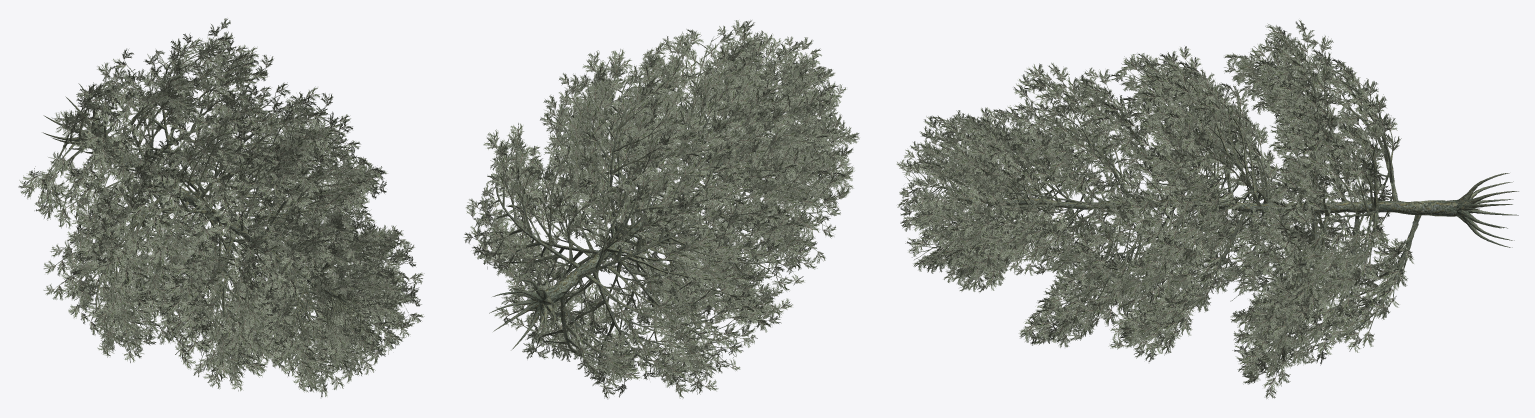
3 views of the same model, side by side, from view 1: azimuth 30°, elevation 25°; view 2: azimuth 150°, elevation 25°; view 3: azimuth 270°, elevation 25° (orthographic). The views are drawn at different scales.
Parts seen in each view (by area): view 1: CL13y; view 2: CL13y; view 3: CL13y.
Part boxes in pixels (box(x1,y1,x2,y2)): CL13y: box(18, 18, 424, 397); CL13y: box(463, 20, 859, 399); CL13y: box(896, 20, 1518, 398).
Size of the model in its own units: 26.53 by 26.61 by 45.2.
Materials: 2 (2 with a texture image).
